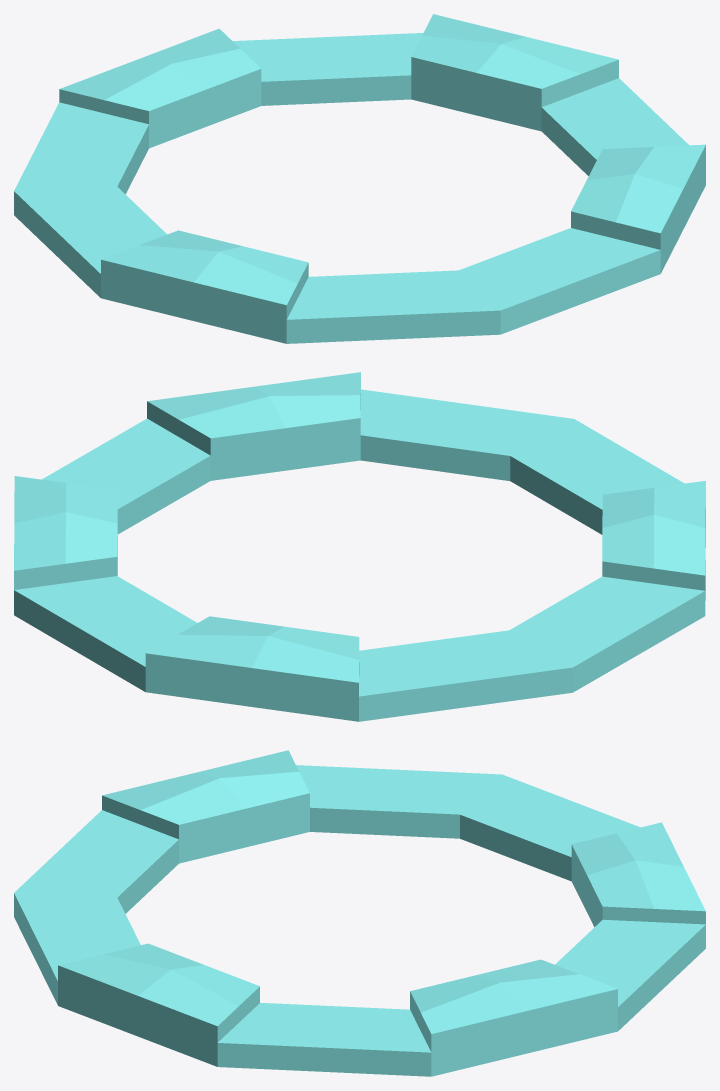
Rendered from ice circle.fbx.
3 views of the same model, one above another, from view 1: azimuth 30°, elevation 25°; view 2: azimuth 150°, elevation 25°; view 3: azimuth 270°, elevation 25° (orthographic). The views are drawn at different scales.
Parts seen in each view (by area): view 1: ice circle; view 2: ice circle; view 3: ice circle.
Boxes of the visible parts, x1,y1,x2,y2 form: ice circle: [14, 14, 705, 343]; ice circle: [14, 372, 705, 721]; ice circle: [14, 750, 705, 1076].
Size of the model in its own units: 252 by 21.77 by 256.
Materials: 1 (1 with a texture image).
